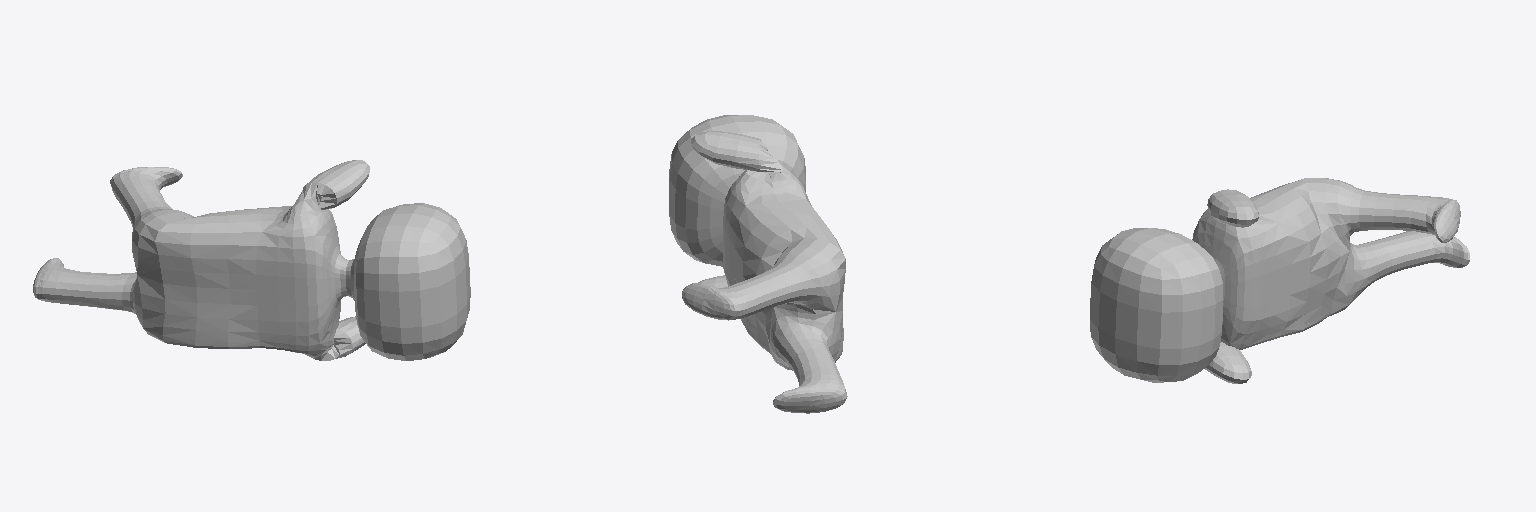
Rendered from antman_push_16.obj.
The picture shows the model from 3 angles: view 1: azimuth 30°, elevation 25°; view 2: azimuth 150°, elevation 25°; view 3: azimuth 270°, elevation 25°; orthographic projection.
Parts seen in each view (by area): view 1: Cube; view 2: Cube; view 3: Cube.
Part boxes in pixels (left/top/right/bottom): Cube: left=33, top=160, right=470, bottom=360; Cube: left=669, top=115, right=847, bottom=413; Cube: left=1090, top=178, right=1469, bottom=383.
Size of the model in its own units: 1.48 by 0.8339 by 1.62.